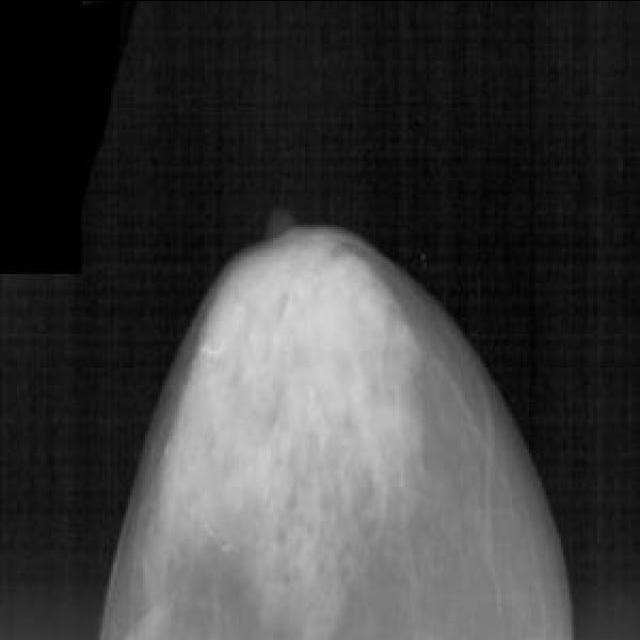tumor: (192, 254, 412, 463)
